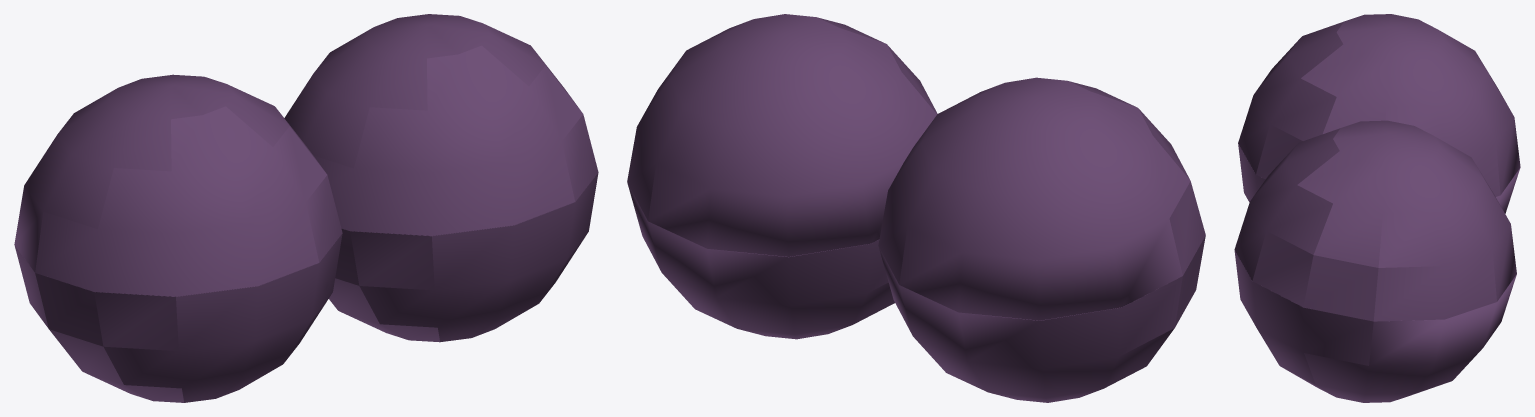
File: ShaunEyes.obj
3 views of the same model, side by side, from view 1: azimuth 30°, elevation 25°; view 2: azimuth 150°, elevation 25°; view 3: azimuth 270°, elevation 25° (orthographic). The views are drawn at different scales.
Parts seen in each view (by area): view 1: ShaunEyes; view 2: ShaunEyes; view 3: ShaunEyes.
Boxes of the visible parts, box(x1,y1,x2,y2) form: ShaunEyes: box(14, 14, 598, 402); ShaunEyes: box(627, 14, 1205, 402); ShaunEyes: box(1234, 14, 1520, 402).
Size of the model in its own units: 0.5625 by 0.2965 by 0.2999.
1 material, 1 textured.
